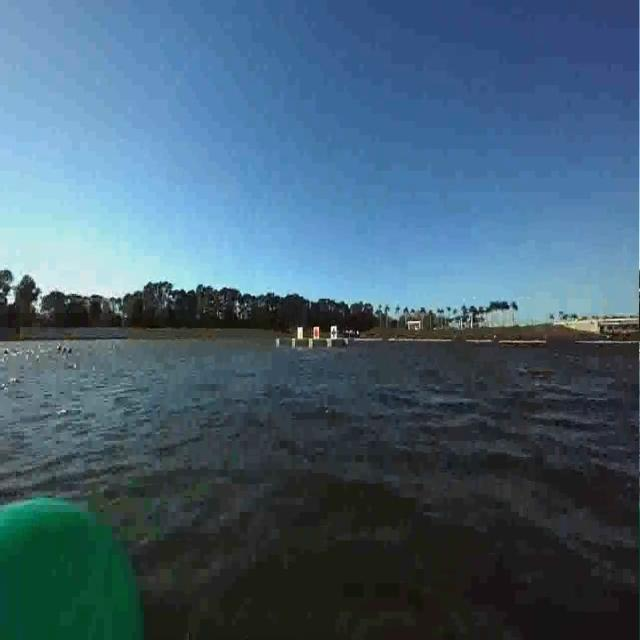green-buoy: (1, 487, 145, 640)
